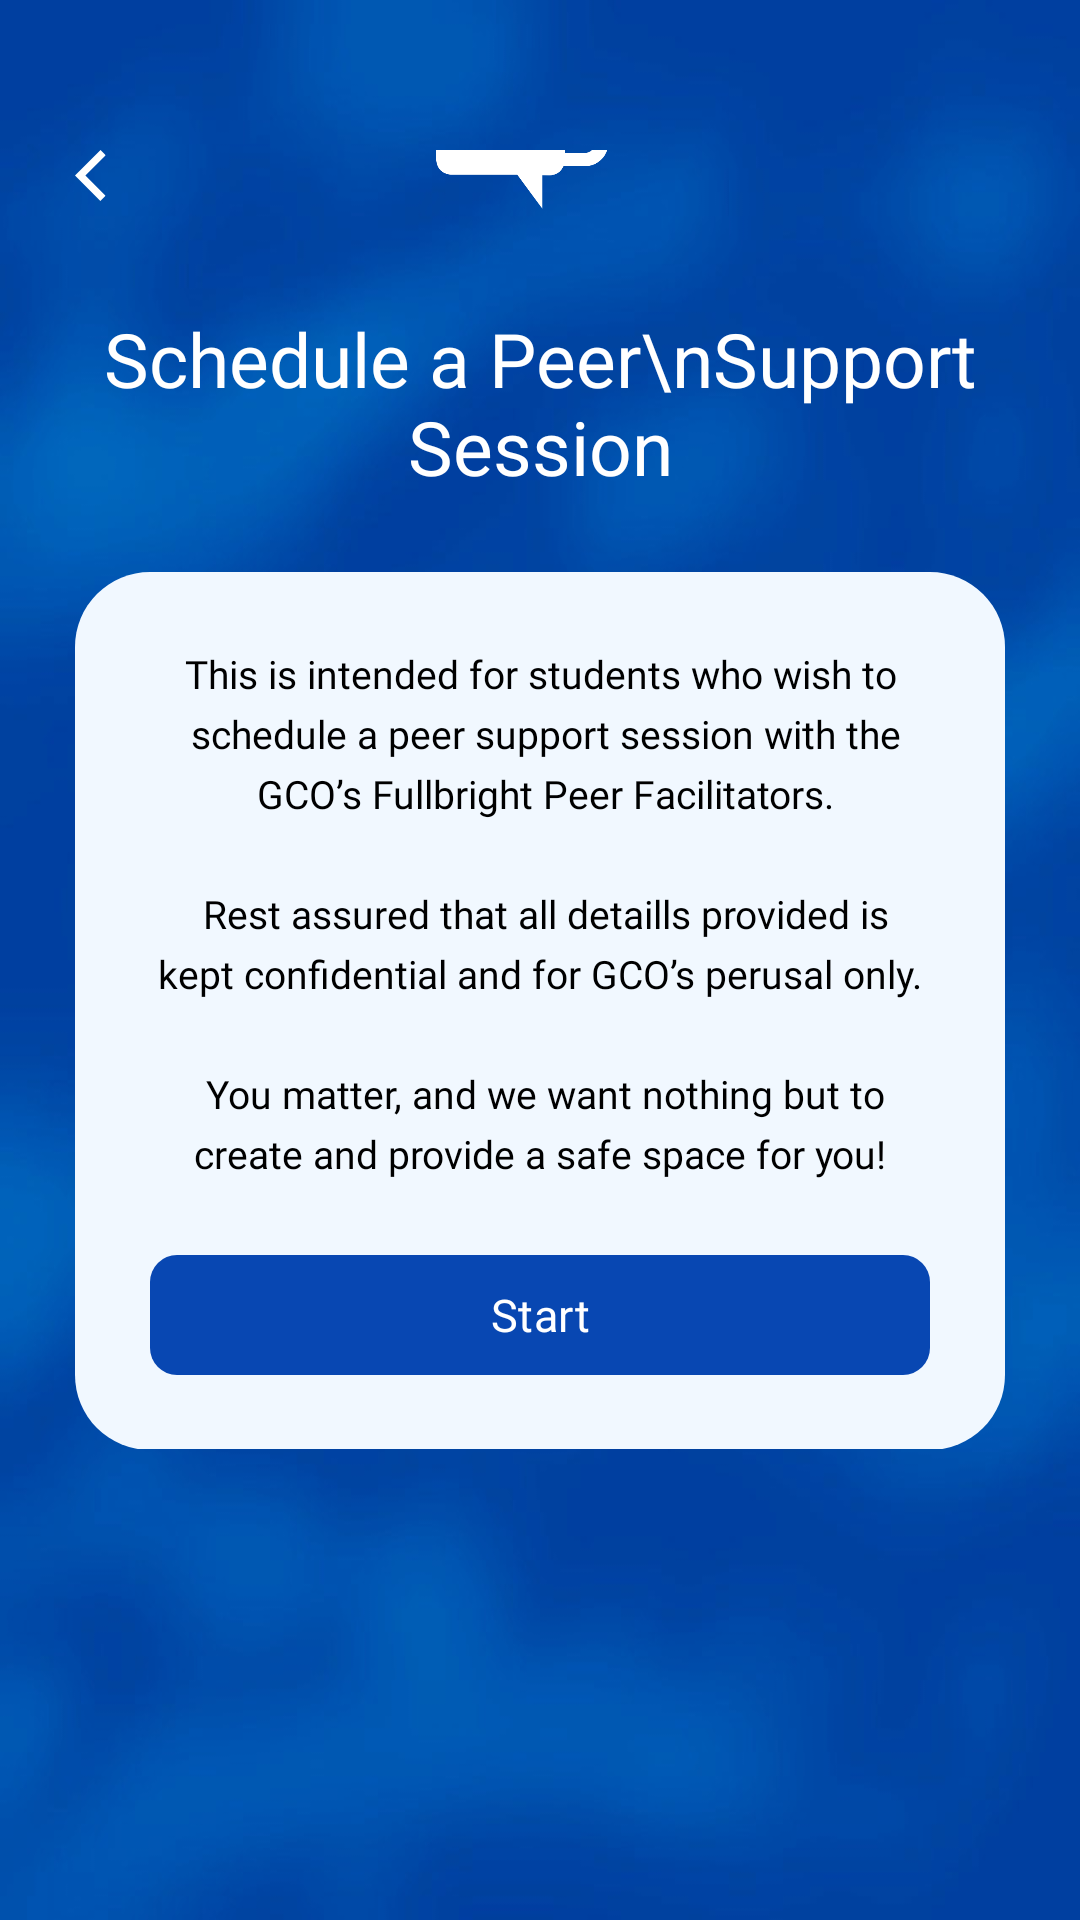

Screen size 1080w x 1920h. Icon name, then its center in pixels as (x,y):
return: (90,175)
